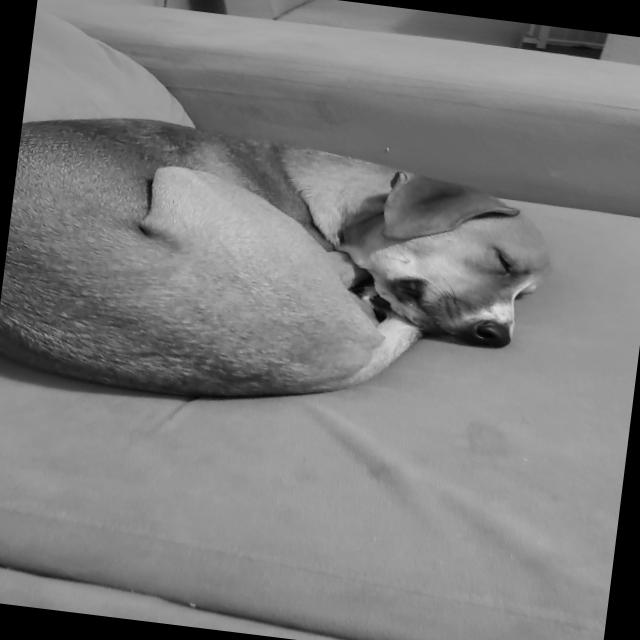laying down: (0, 99, 574, 443)
